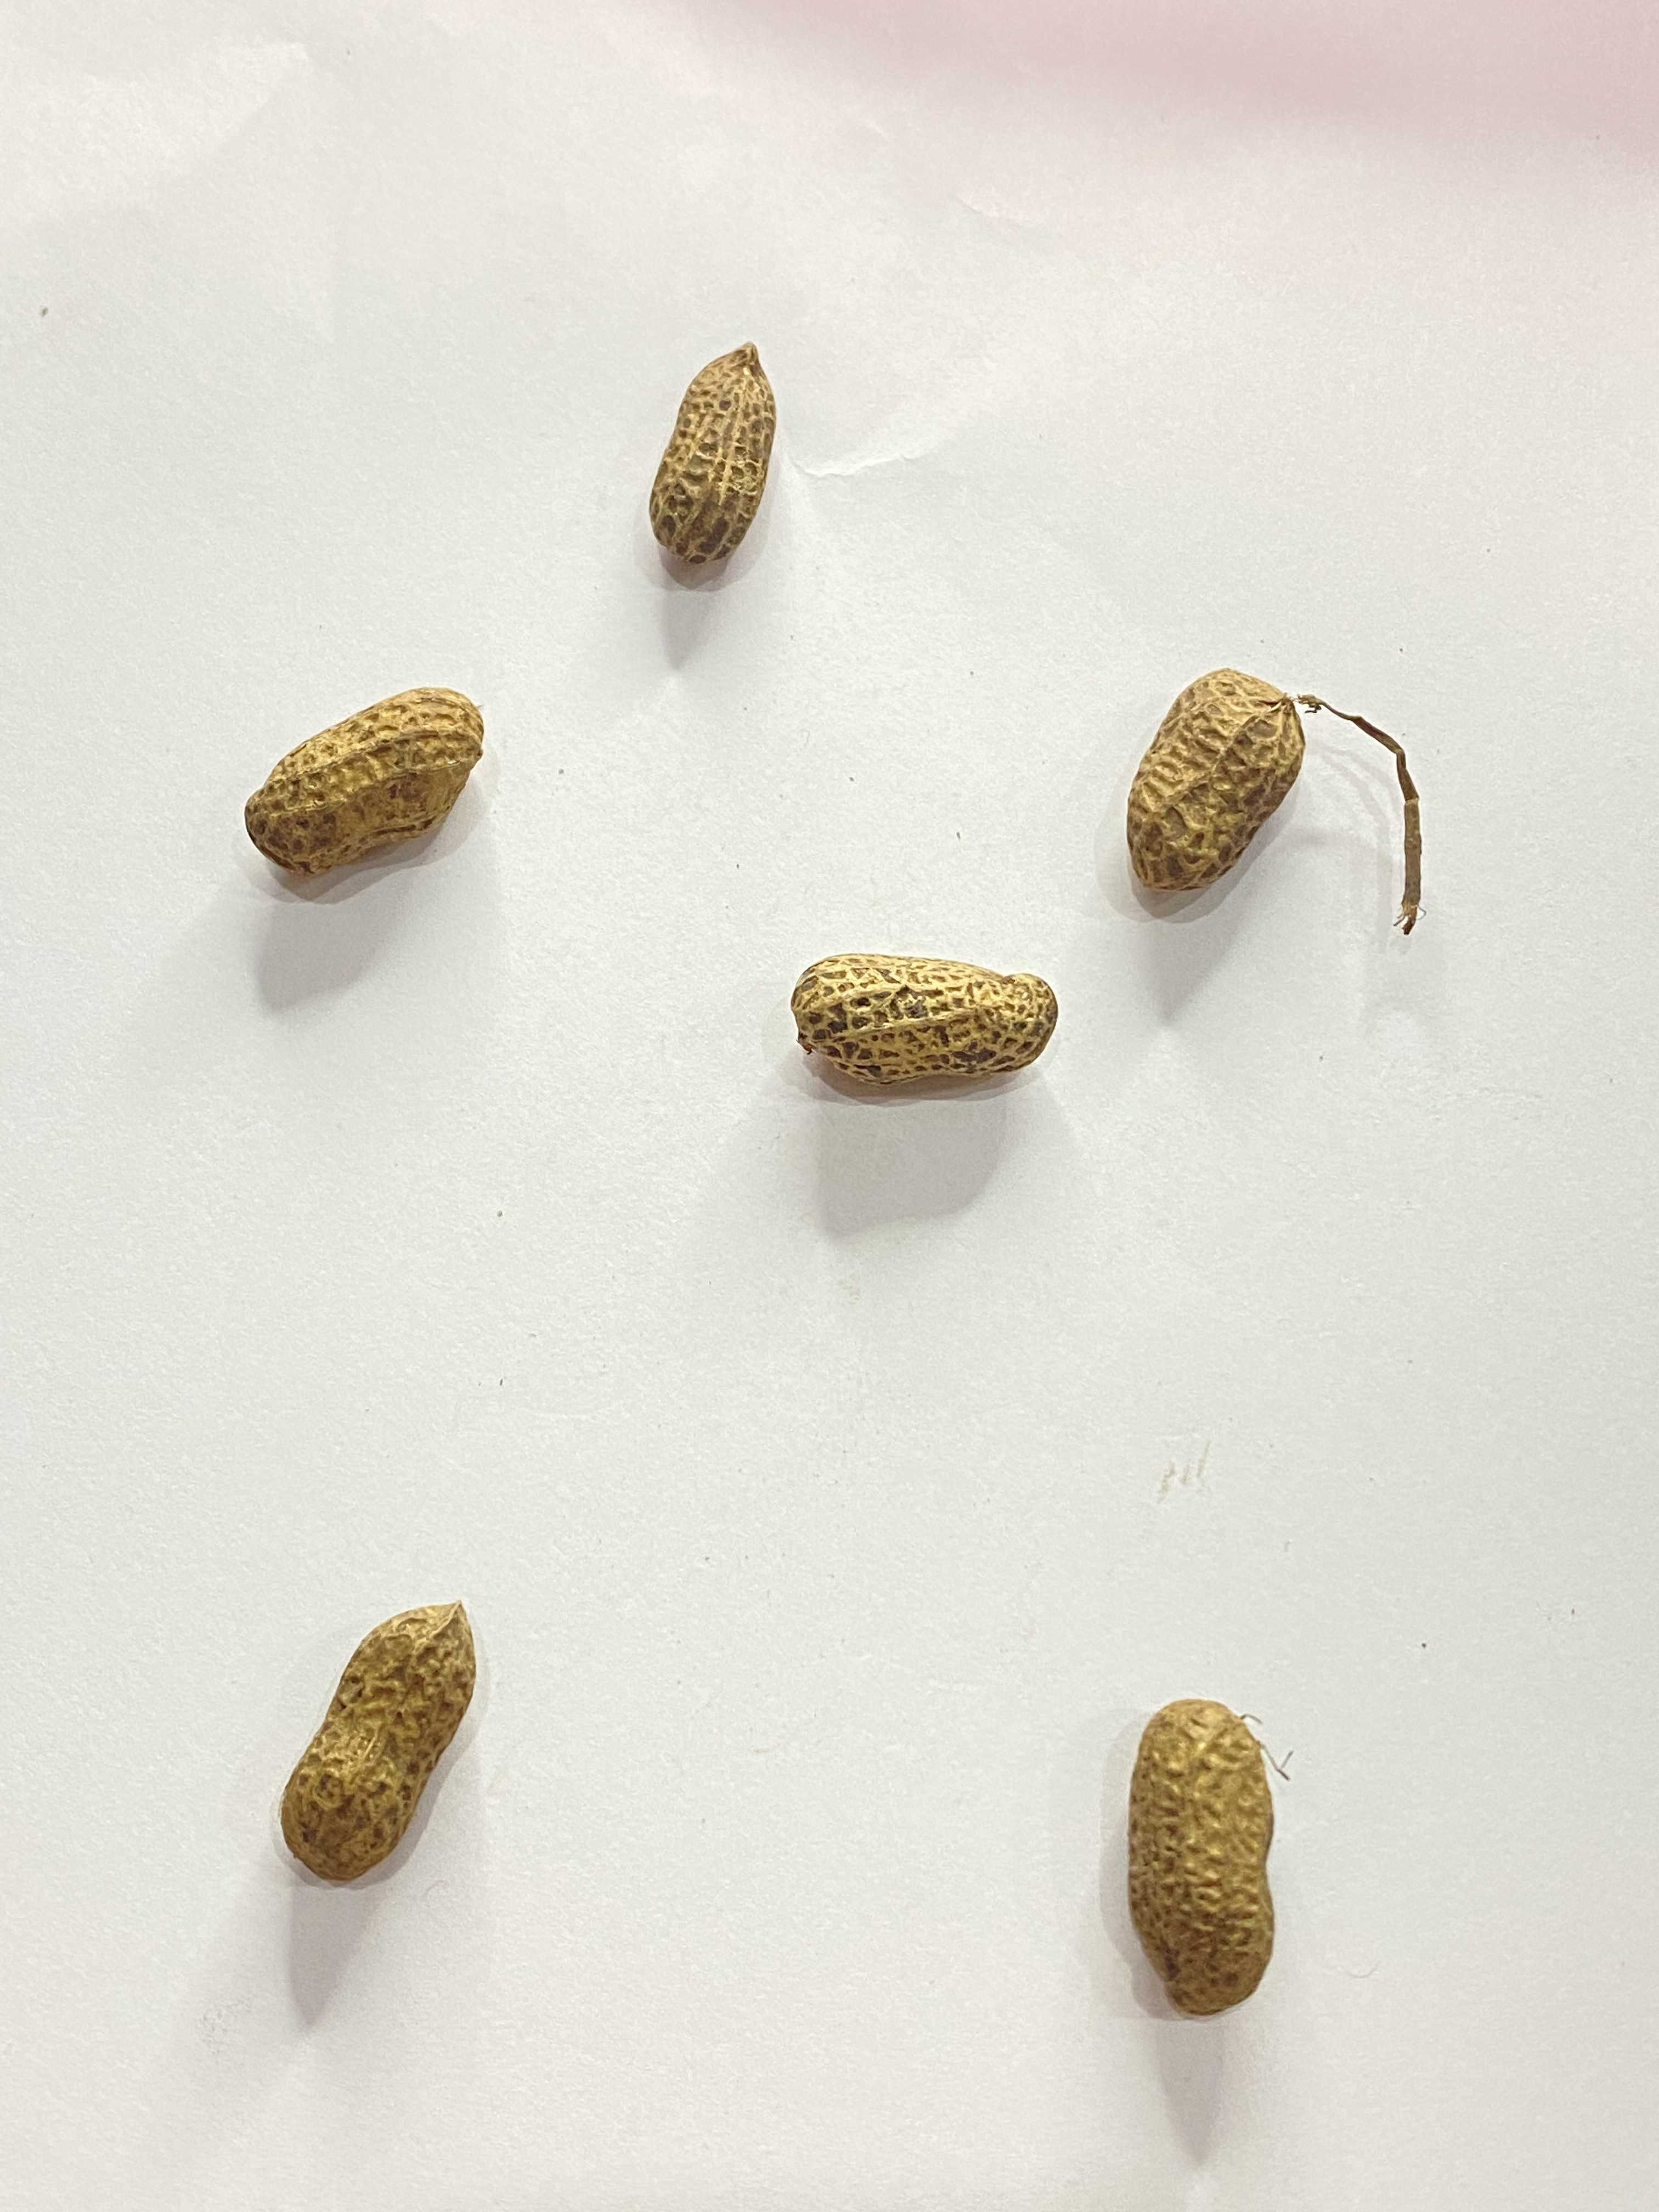kacang1: (1094, 625, 1307, 918), (763, 942, 1087, 1103), (636, 338, 782, 589)
kacang2: (1073, 1696, 1324, 2031), (169, 678, 528, 890), (268, 1580, 495, 1888)
